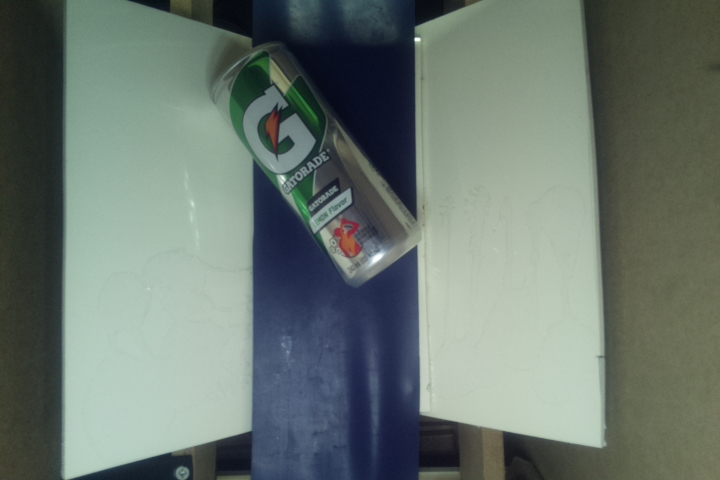can: (210, 44, 422, 288)
